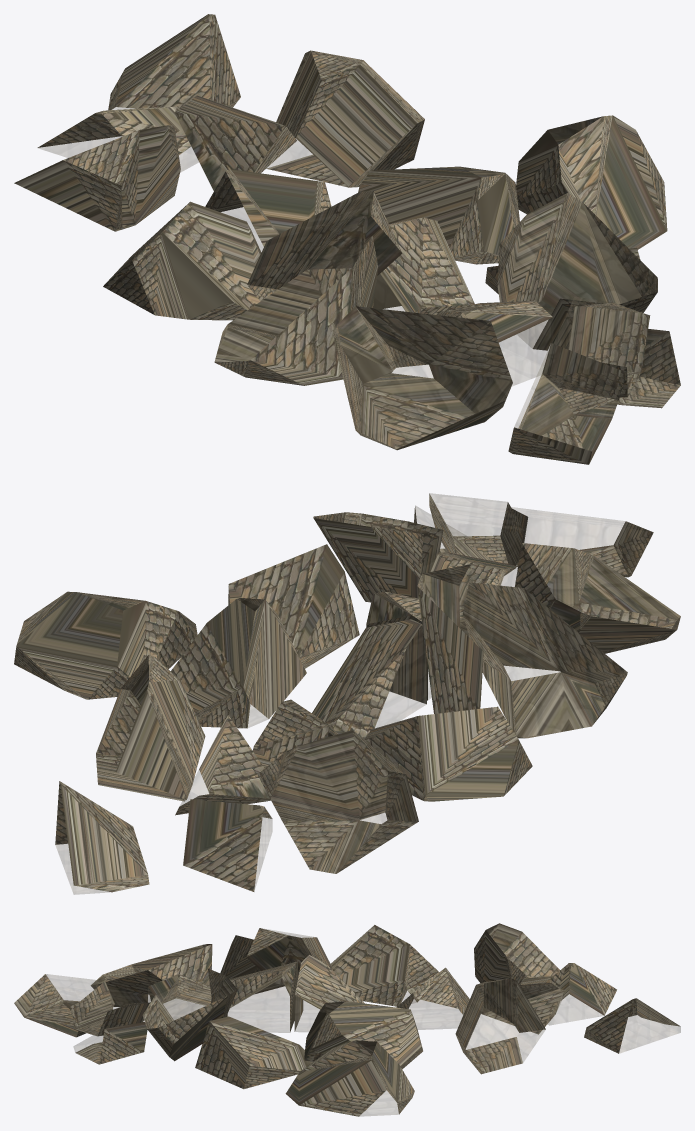
The model's file is BreakWallSmall_000021.obj.
3 views of the same model, one above another, from view 1: azimuth 30°, elevation 25°; view 2: azimuth 150°, elevation 25°; view 3: azimuth 270°, elevation 25° (orthographic). The views are drawn at different scales.
Parts seen in each view (by area): view 1: Cube.002_cell.013_Cube.002_cell.012, Cube.002_cell.004_Cube.002_cell.003, Cube.002_cell.014_Cube.002_cell.013, Cube.002_cell.017_Cube.002_cell.016, Cube.002_cell.003_Cube.002_cell.002, Cube.002_cell.012_Cube.002_cell.011, Cube.002_cell.010_Cube.002_cell.009, Cube.002_cell.015_Cube.002_cell.014, Cube.002_cell.002_Cube.002_cell.001, Cube.002_cell.009_Cube.002_cell.008, Cube.002_cell.005_Cube.002_cell.004, Cube.002_cell.008_Cube.002_cell.007 (+6 smaller); view 2: Cube.002_cell.017_Cube.002_cell.016, Cube.002_cell.010_Cube.002_cell.009, Cube.002_cell.003_Cube.002_cell.002, Cube.002_cell.015_Cube.002_cell.014, Cube.002_cell.012_Cube.002_cell.011, Cube.002_cell.014_Cube.002_cell.013, Cube.002_cell.013_Cube.002_cell.012, Cube.002_cell.006_Cube.002_cell.005, Cube.002_cell.016_Cube.002_cell.015, Cube.002_cell.009_Cube.002_cell.008, Cube.002_cell.004_Cube.002_cell.003, Cube.002_cell.005_Cube.002_cell.004 (+7 smaller); view 3: Cube.002_cell.003_Cube.002_cell.002, Cube.002_cell.014_Cube.002_cell.013, Cube.002_cell.016_Cube.002_cell.015, Cube.002_cell.012_Cube.002_cell.011, Cube.002_cell.004_Cube.002_cell.003, Cube.002_cell.015_Cube.002_cell.014, Cube.002_cell.008_Cube.002_cell.007, Cube.002_cell.010_Cube.002_cell.009, Cube.002_cell.013_Cube.002_cell.012, Cube.002_cell.002_Cube.002_cell.001, Cube.002_cell.005_Cube.002_cell.004, Cube.002_cell_Cube.002_cell.020 (+8 smaller).
Part boxes in pixels (box(x1,y1,x2,y2)): Cube.002_cell.013_Cube.002_cell.012: box(333, 306, 512, 450); Cube.002_cell.004_Cube.002_cell.003: box(497, 193, 657, 350); Cube.002_cell.014_Cube.002_cell.013: box(266, 50, 424, 187); Cube.002_cell.017_Cube.002_cell.016: box(214, 235, 378, 385); Cube.002_cell.003_Cube.002_cell.002: box(516, 115, 667, 249); Cube.002_cell.012_Cube.002_cell.011: box(103, 201, 261, 320); Cube.002_cell.010_Cube.002_cell.009: box(14, 125, 180, 231); Cube.002_cell.015_Cube.002_cell.014: box(358, 166, 519, 264); Cube.002_cell.002_Cube.002_cell.001: box(508, 343, 626, 464); Cube.002_cell.009_Cube.002_cell.008: box(247, 191, 402, 301); Cube.002_cell.005_Cube.002_cell.004: box(108, 14, 240, 110); Cube.002_cell.008_Cube.002_cell.007: box(373, 217, 474, 314); Cube.002_cell.017_Cube.002_cell.016: box(463, 582, 627, 738); Cube.002_cell.010_Cube.002_cell.009: box(257, 730, 418, 873); Cube.002_cell.003_Cube.002_cell.002: box(14, 591, 197, 699); Cube.002_cell.015_Cube.002_cell.014: box(171, 598, 306, 728); Cube.002_cell.012_Cube.002_cell.011: box(364, 706, 532, 801); Cube.002_cell.014_Cube.002_cell.013: box(96, 655, 205, 801); Cube.002_cell.013_Cube.002_cell.012: box(515, 543, 680, 653); Cube.002_cell.006_Cube.002_cell.005: box(312, 619, 426, 739); Cube.002_cell.016_Cube.002_cell.015: box(228, 544, 359, 668); Cube.002_cell.009_Cube.002_cell.008: box(417, 564, 483, 713); Cube.002_cell.004_Cube.002_cell.003: box(313, 512, 443, 602); Cube.002_cell.005_Cube.002_cell.004: box(55, 781, 149, 894); Cube.002_cell.003_Cube.002_cell.002: box(285, 1040, 414, 1116); Cube.002_cell.014_Cube.002_cell.013: box(455, 978, 545, 1074); Cube.002_cell.016_Cube.002_cell.015: box(195, 1016, 312, 1089); Cube.002_cell.012_Cube.002_cell.011: box(331, 925, 439, 1006); Cube.002_cell.004_Cube.002_cell.003: box(142, 968, 237, 1061); Cube.002_cell.015_Cube.002_cell.014: box(304, 1001, 422, 1068); Cube.002_cell.008_Cube.002_cell.007: box(228, 961, 297, 1032); Cube.002_cell.010_Cube.002_cell.009: box(474, 923, 559, 984); Cube.002_cell.013_Cube.002_cell.012: box(90, 944, 212, 1006); Cube.002_cell.002_Cube.002_cell.001: box(14, 974, 114, 1037); Cube.002_cell.005_Cube.002_cell.004: box(584, 998, 680, 1053); Cube.002_cell_Cube.002_cell.020: box(396, 967, 469, 1029).
Bounding box in the file's own units: 29.57 × 6.7 × 50.95.
Materials: 2 (2 with a texture image).
